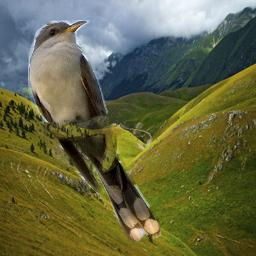Cuckoo: (28, 20, 161, 242)
